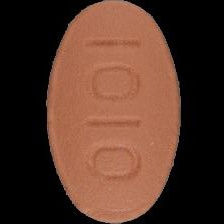61919-389: (0, 0, 224, 224)
